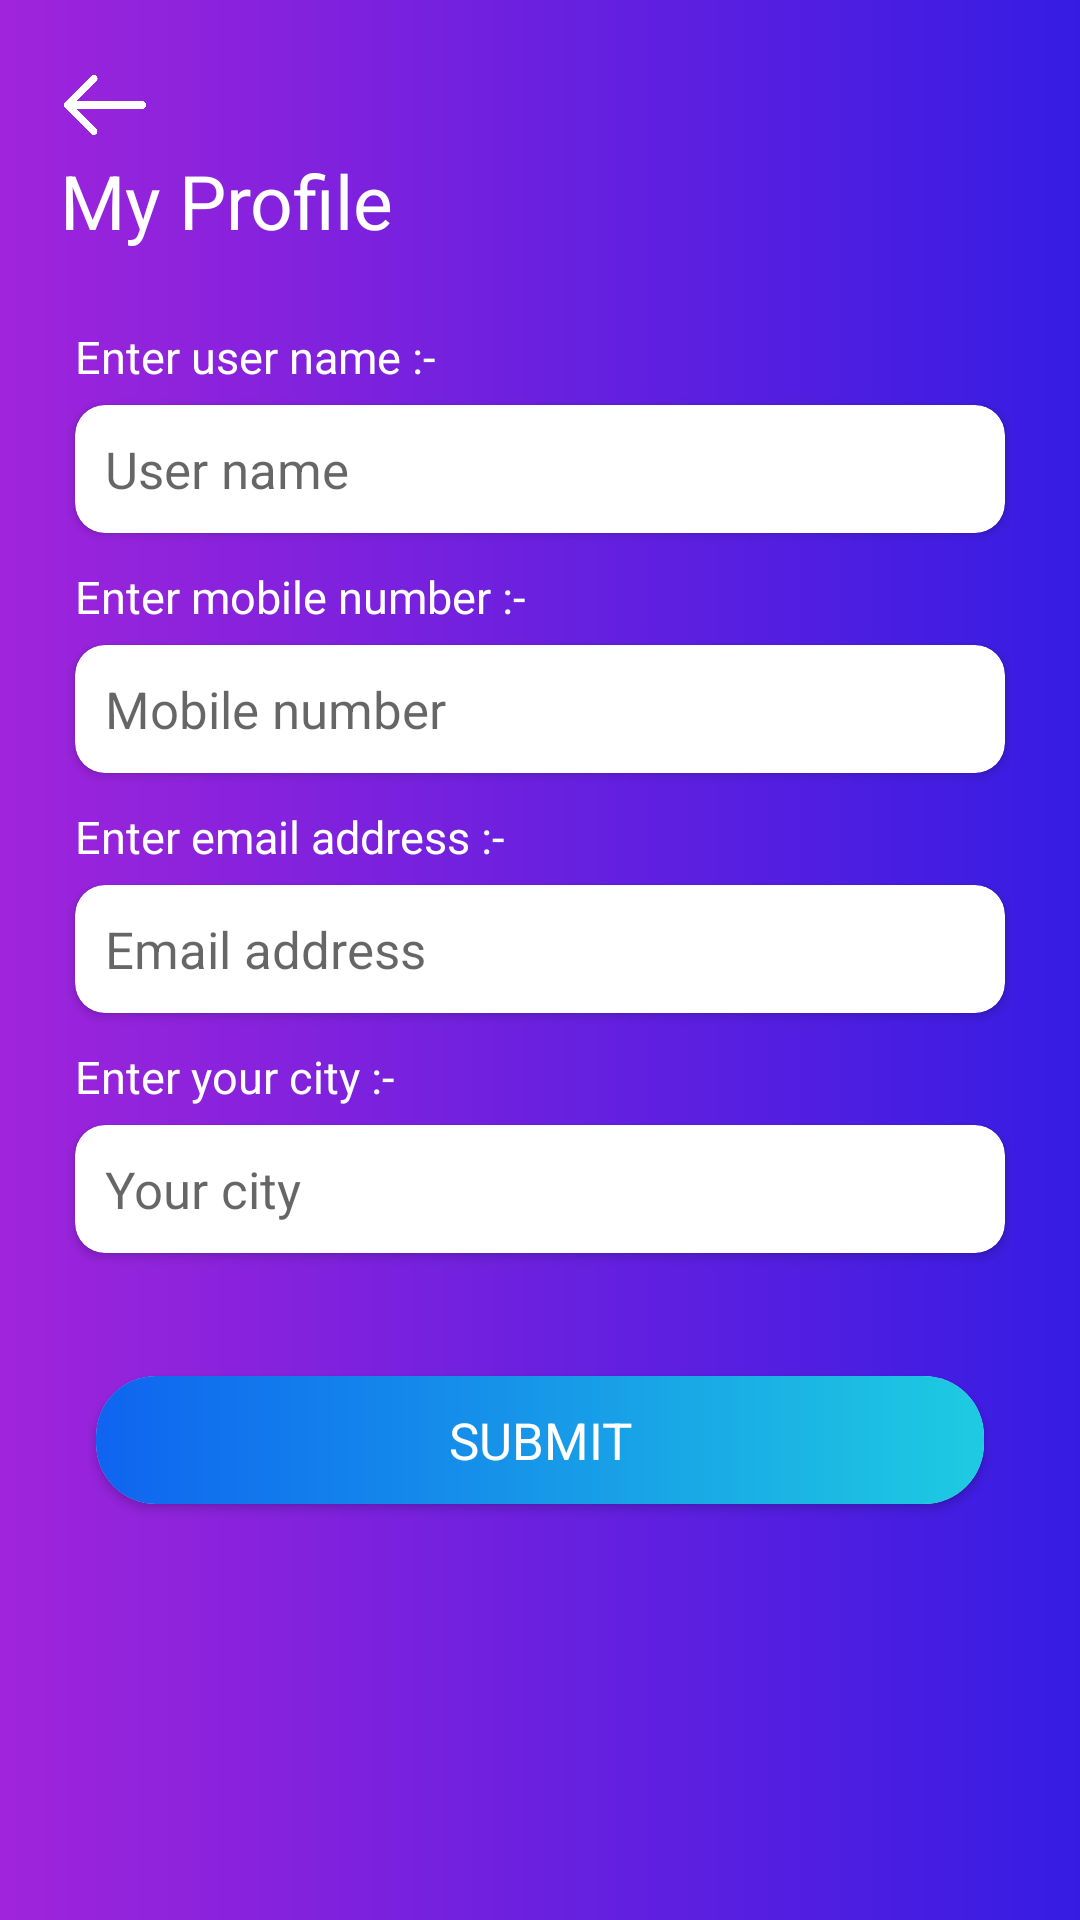

Icons on this 1080px×1920px Android screen, each with the point to tap as [x,y]:
login back: [105,105]
